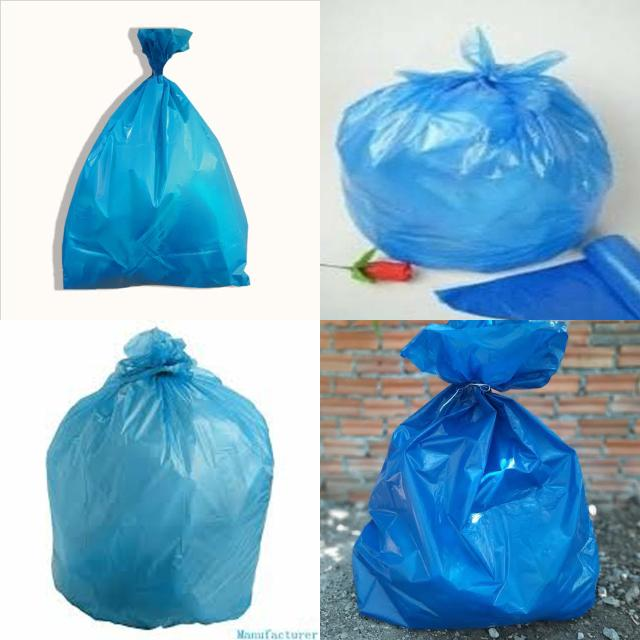Single-layer Plastic: (352, 320, 599, 629), (46, 329, 272, 629), (336, 30, 612, 271), (62, 29, 249, 289)
